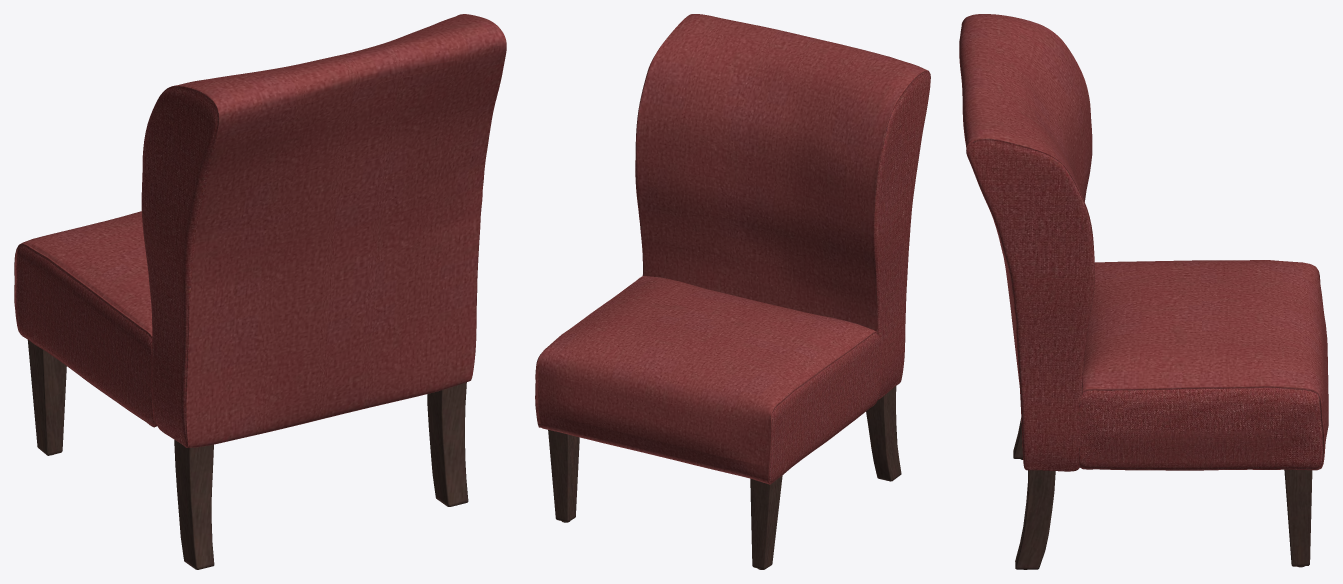
Rendered from abo_B072C8Q4SG.glb.
The picture shows the model from 3 angles, left to right: view 1: azimuth 30°, elevation 25°; view 2: azimuth 150°, elevation 25°; view 3: azimuth 270°, elevation 25°; orthographic projection. The views are drawn at different scales.
Parts seen in each view (by area): view 1: RootNode; view 2: RootNode; view 3: RootNode.
Part boxes in pixels (x1=…): RootNode: x1=14, y1=14, x2=506, y2=569; RootNode: x1=535, y1=14, x2=930, y2=569; RootNode: x1=959, y1=14, x2=1328, y2=569.
Size of the model in its own units: 0.5381 by 0.8462 by 0.6405.
Materials: 1 (1 with a texture image).
